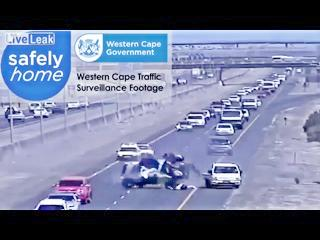Car: (138, 156, 187, 187), (55, 173, 92, 203), (120, 160, 157, 189), (203, 162, 242, 189), (46, 192, 81, 210), (116, 142, 142, 161), (221, 109, 244, 129), (35, 198, 68, 210), (208, 136, 232, 148), (216, 122, 235, 136), (43, 101, 64, 113), (189, 112, 206, 126), (136, 143, 154, 156), (7, 109, 26, 121), (176, 120, 195, 132), (32, 107, 52, 118), (242, 97, 259, 109), (28, 102, 42, 113), (5, 106, 21, 115), (211, 104, 224, 114), (67, 100, 81, 109), (202, 109, 214, 119), (207, 107, 218, 117), (229, 95, 240, 105), (218, 98, 231, 106), (240, 109, 249, 119), (79, 99, 90, 107), (237, 89, 247, 97), (176, 78, 187, 85), (196, 75, 204, 80), (172, 81, 177, 86)
Major Accident: (118, 155, 189, 189)
